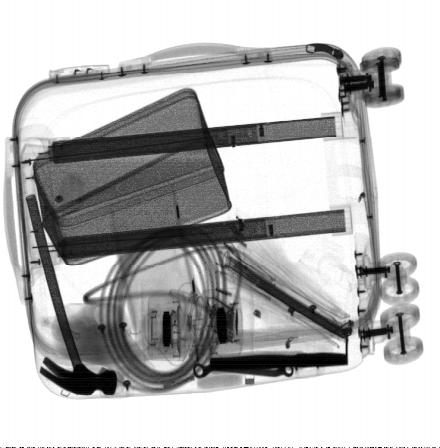Hammer: (21, 193, 117, 397)
Pliers: (210, 348, 350, 370)
Wrench: (193, 362, 294, 380)
